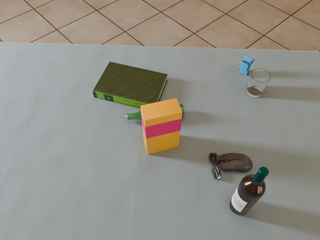book: (93, 62, 167, 108)
bottle: (230, 167, 269, 215), (126, 104, 184, 121)
box: (140, 98, 182, 154)
cup: (246, 69, 271, 97)
mouse: (209, 153, 252, 179)
toy_car: (239, 55, 254, 75)
